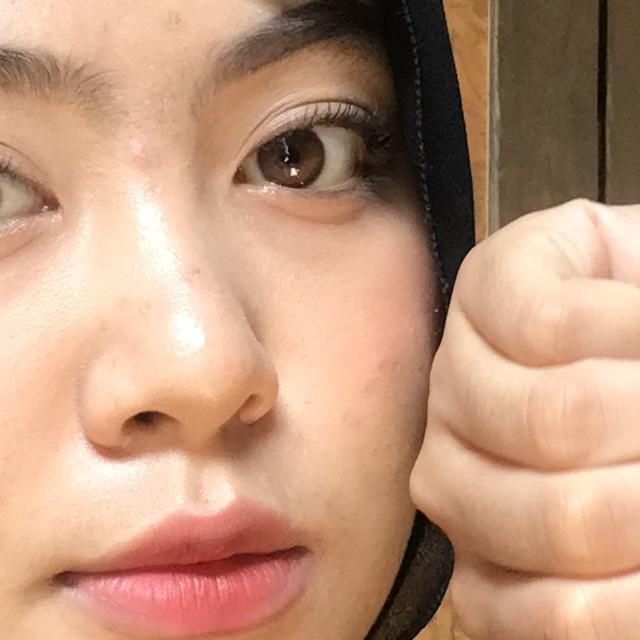sedih: (340, 116, 640, 640)
